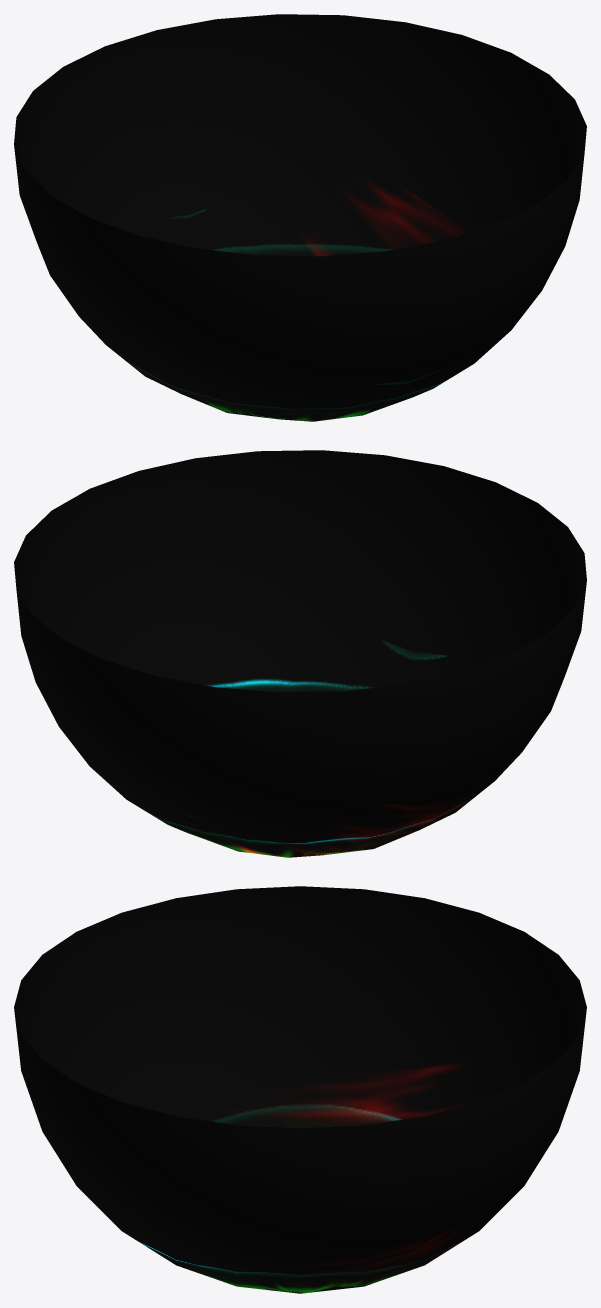
File: Andrius_Rush.fbx
The picture shows the model from 3 angles, top to bottom: view 1: azimuth 30°, elevation 25°; view 2: azimuth 150°, elevation 25°; view 3: azimuth 270°, elevation 25°; orthographic projection.
Parts seen in each view (by area): view 1: Eff_Model_Avatar_Loli_Bow_Diona_IceShield_HalfBall; view 2: Eff_Model_Avatar_Loli_Bow_Diona_IceShield_HalfBall; view 3: Eff_Model_Avatar_Loli_Bow_Diona_IceShield_HalfBall.
Part boxes in pixels (x1,y1,x2,y2): Eff_Model_Avatar_Loli_Bow_Diona_IceShield_HalfBall: (14,14,586,421); Eff_Model_Avatar_Loli_Bow_Diona_IceShield_HalfBall: (14,450,586,857); Eff_Model_Avatar_Loli_Bow_Diona_IceShield_HalfBall: (14,886,586,1293).
Bounding box in the file's own units: 21.46 × 10.73 × 21.46.
Materials: 1 (1 with a texture image).
